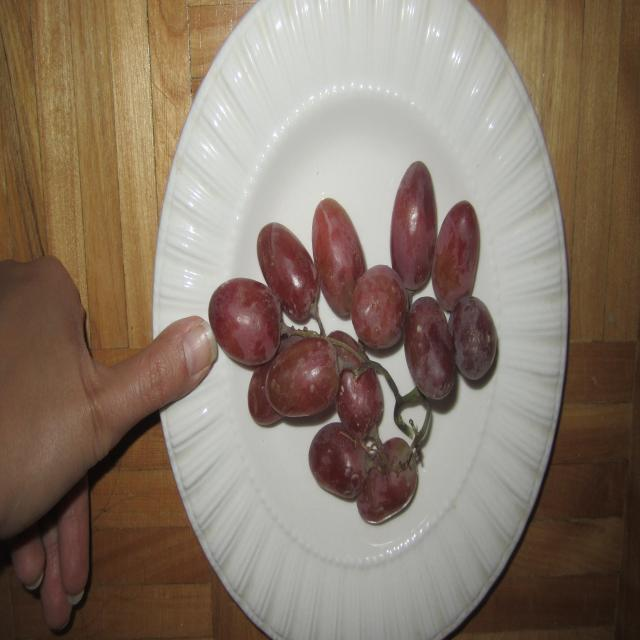Finger: (130, 308, 220, 397)
Grapes: (216, 153, 509, 536)
